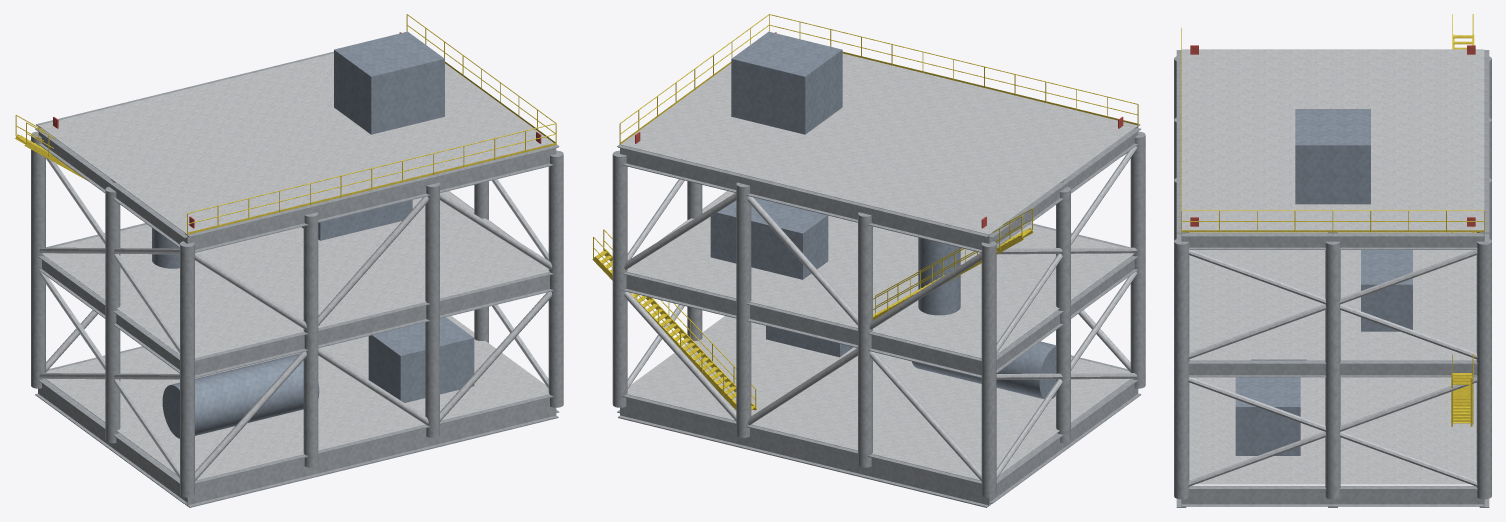
File: topside-module-frames.glb
The picture shows the model from 3 angles, left to right: view 1: azimuth 30°, elevation 25°; view 2: azimuth 150°, elevation 25°; view 3: azimuth 270°, elevation 25°; orthographic projection.
Parts seen in each view (by area): view 1: DeckPlate&Grating, DeckGirders, Equipment(context), Columns, WallBracing, Stairs&Handrails; view 2: DeckPlate&Grating, DeckGirders, Columns, Equipment(context), WallBracing, Stairs&Handrails; view 3: DeckPlate&Grating, DeckGirders, Equipment(context), Columns, WallBracing, Stairs&Handrails.
Part boxes in pixels (bbox=[...]): DeckPlate&Grating: bbox=[38, 53, 553, 480]; DeckGirders: bbox=[35, 51, 559, 507]; Equipment(context): bbox=[152, 31, 474, 438]; Columns: bbox=[31, 131, 563, 497]; WallBracing: bbox=[39, 157, 552, 480]; Stairs&Handrails: bbox=[15, 14, 556, 234]; DeckPlate&Grating: bbox=[620, 53, 1137, 480]; DeckGirders: bbox=[617, 124, 1141, 507]; Columns: bbox=[612, 131, 1145, 497]; Equipment(context): bbox=[710, 31, 1055, 398]; WallBracing: bbox=[624, 146, 1137, 481]; Stairs&Handrails: bbox=[592, 14, 1138, 410]; DeckPlate&Grating: bbox=[1182, 49, 1484, 484]; DeckGirders: bbox=[1176, 50, 1489, 507]; Equipment(context): bbox=[1235, 109, 1412, 455]; Columns: bbox=[1174, 56, 1491, 499]; WallBracing: bbox=[1188, 250, 1477, 486]; Stairs&Handrails: bbox=[1181, 14, 1484, 426].
Size of the model in its own units: 23.4 by 17.1 by 14.7.
Materials: 6 (6 with a texture image).
